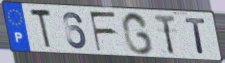6: (62, 11, 88, 51)
F: (88, 11, 118, 53)
G: (120, 11, 155, 56)
T: (28, 7, 53, 51), (152, 14, 177, 56), (183, 17, 208, 56)
